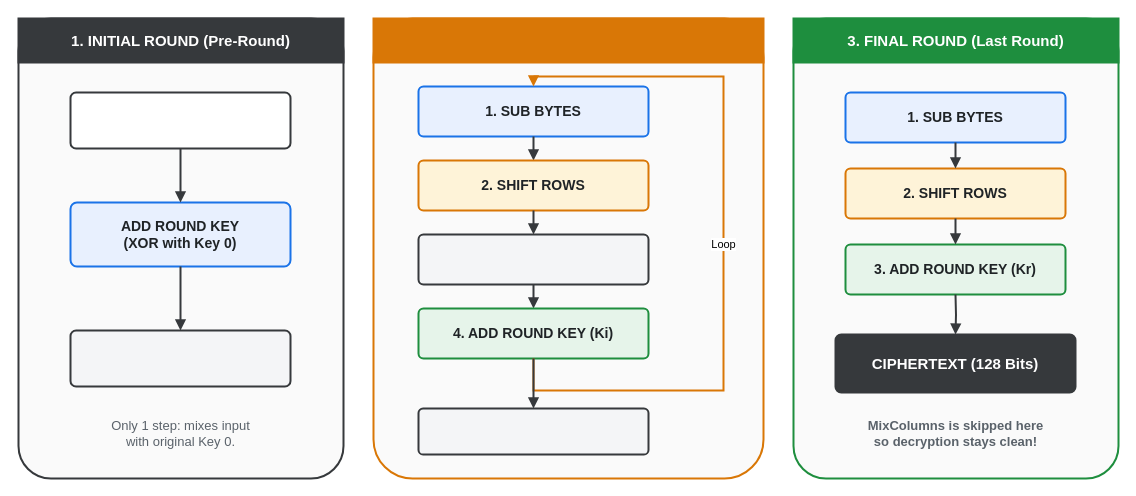
Some shapes in this 1136 by 496 pixel diagram are drawn without their labels. Here are the shapes that lost their labels. From the top down, the centre of each, then its label:
At [568,40]: "2. MAIN ROUNDS (Loop 9 or 13 times)".
At [180,120]: "Plaintext State (4×4)".
At [533,259]: "3. MIX COLUMNS".
At [180,358]: "To Main Rounds ➔".
At [533,431]: "To Final Round ➔".
